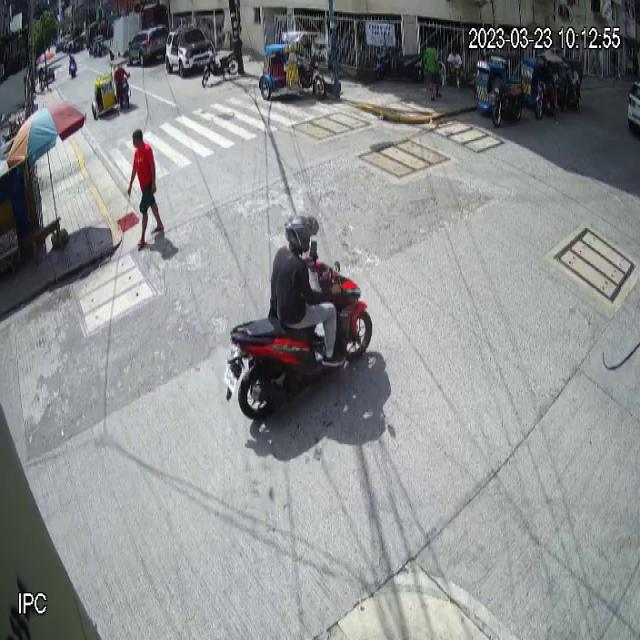Motorcycle: (224, 240, 373, 422)
Tricycle: (258, 31, 328, 101), (475, 50, 525, 128), (91, 55, 132, 121)
